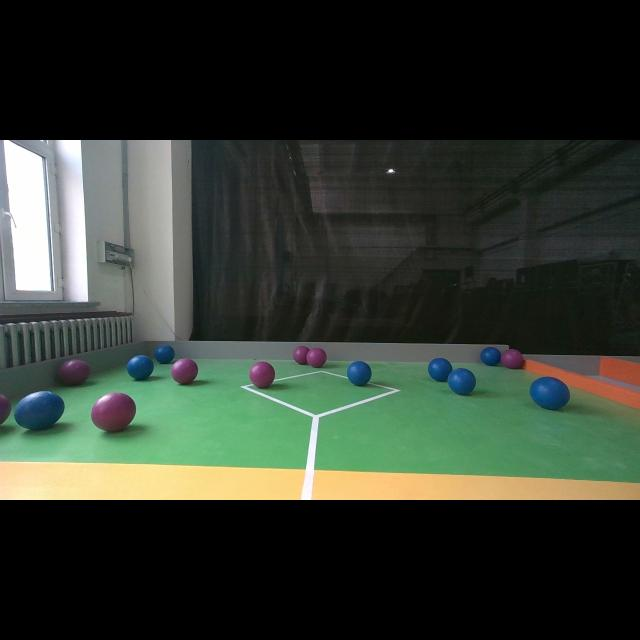B: (14, 390, 64, 430), (530, 376, 570, 410), (448, 368, 477, 396), (126, 356, 154, 380), (346, 362, 372, 386), (428, 358, 452, 382), (154, 344, 176, 364), (481, 348, 502, 367)
P: (92, 392, 136, 432), (58, 360, 90, 386), (172, 358, 198, 384), (249, 362, 275, 388), (500, 349, 524, 369), (307, 348, 327, 368), (290, 347, 312, 361)
